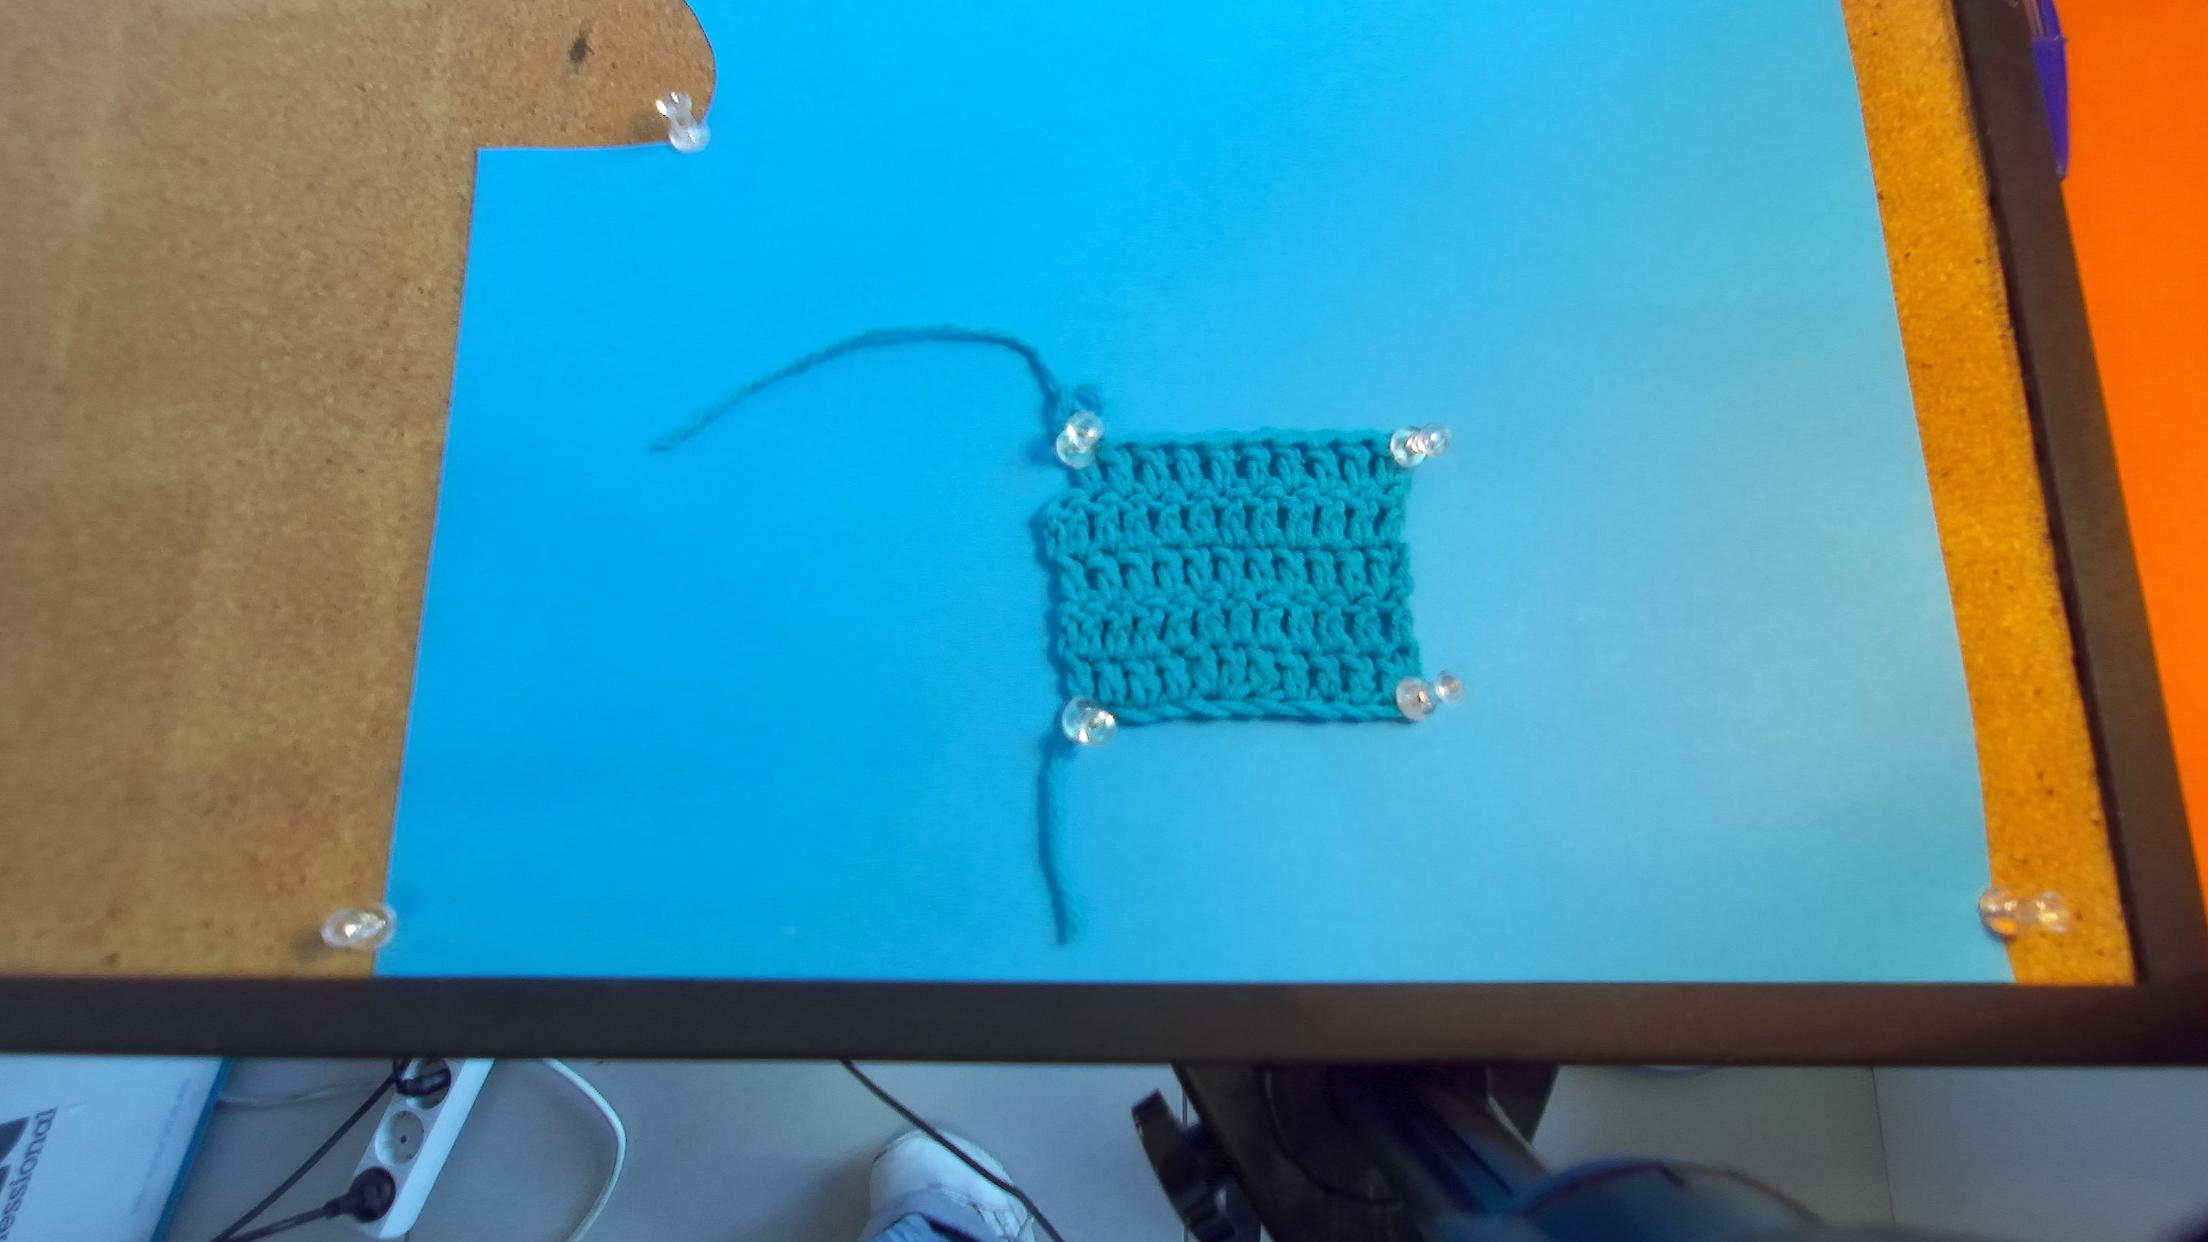hole: (1151, 443, 1177, 456), (1187, 441, 1207, 456), (1115, 441, 1136, 453), (1327, 438, 1345, 452), (1230, 440, 1245, 455), (1292, 443, 1310, 455), (1359, 440, 1375, 450), (1259, 438, 1272, 450)
swatch: (1030, 420, 1448, 726)
